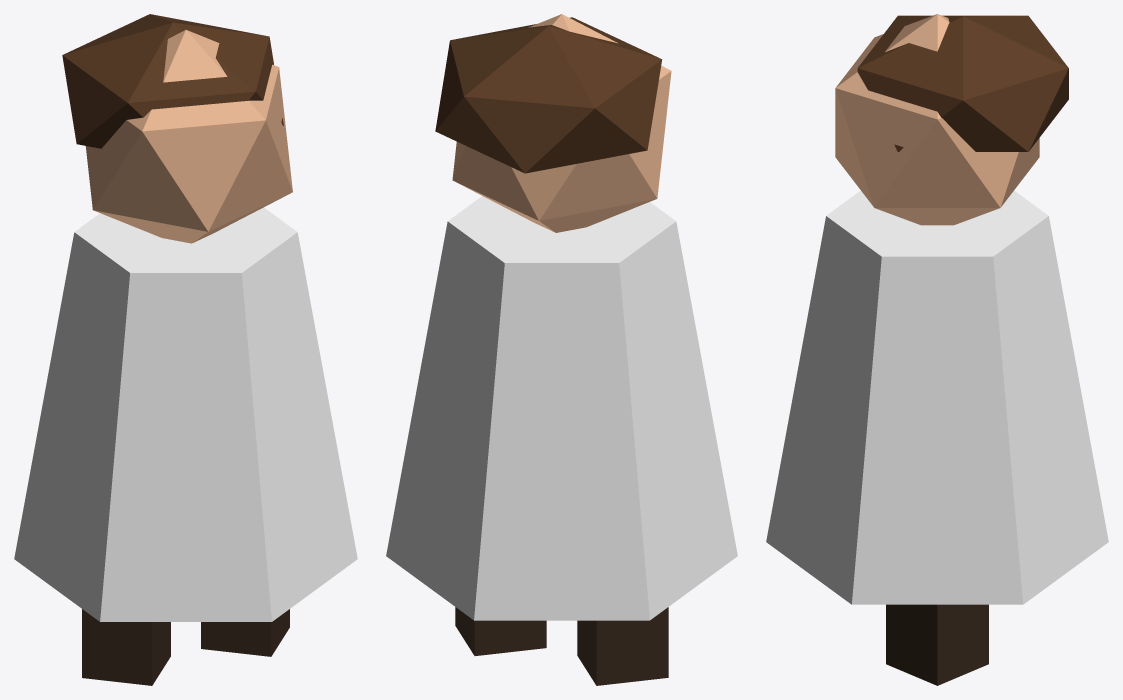
File: villager.glb
The picture shows the model from 3 angles, left to right: view 1: azimuth 30°, elevation 25°; view 2: azimuth 150°, elevation 25°; view 3: azimuth 270°, elevation 25°; orthographic projection. The views are drawn at different scales.
Visible parts, largest first — view 1: villager; view 2: villager; view 3: villager.
Part boxes in pixels (x1,y1,x2,y2): villager: (14,14,357,685); villager: (386,14,737,685); villager: (766,14,1108,685).
Bounding box in the file's own units: 0.3464 × 0.8 × 0.4.
